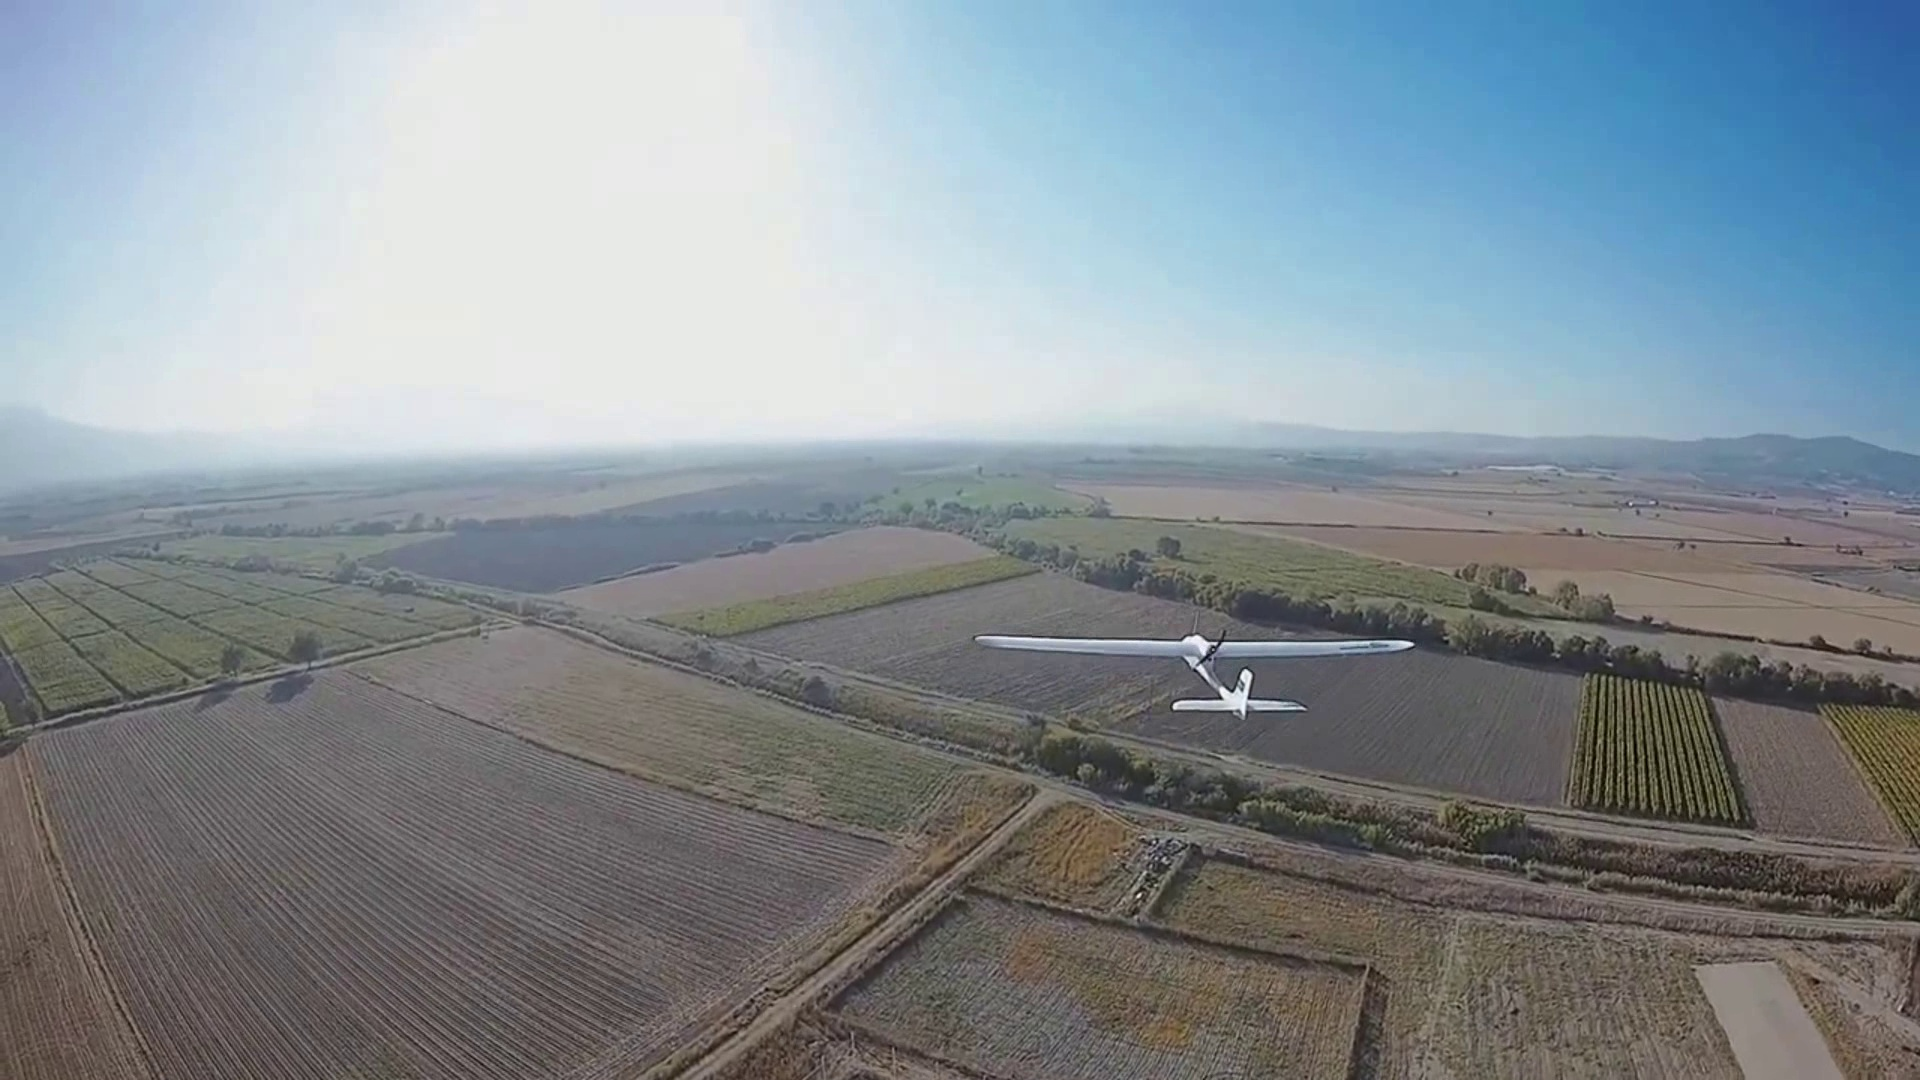airplane: (972, 618, 1416, 720)
